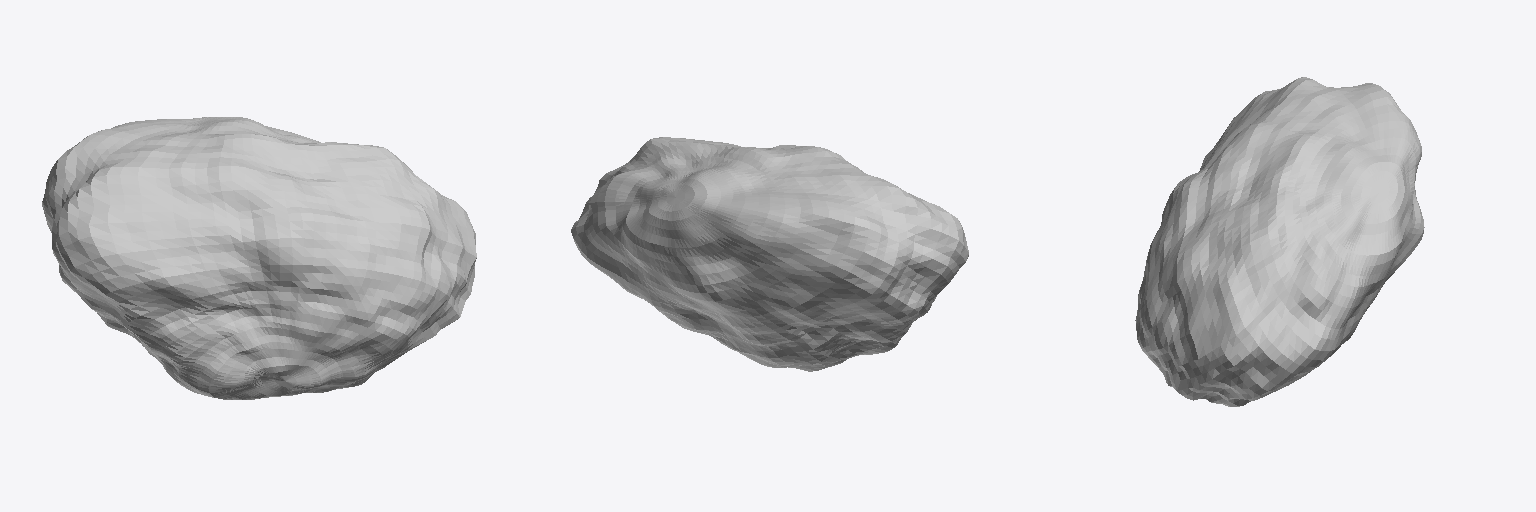
File: Rock2.obj
The picture shows the model from 3 angles: view 1: azimuth 30°, elevation 25°; view 2: azimuth 150°, elevation 25°; view 3: azimuth 270°, elevation 25°; orthographic projection.
Visible parts, largest first — view 1: Sphere.002; view 2: Sphere.002; view 3: Sphere.002.
Part boxes in pixels (bbox=[...]): Sphere.002: bbox=[42, 117, 476, 399]; Sphere.002: bbox=[571, 137, 968, 371]; Sphere.002: bbox=[1135, 77, 1424, 406].
Bounding box in the file's own units: 17.96 × 10.12 × 11.58.